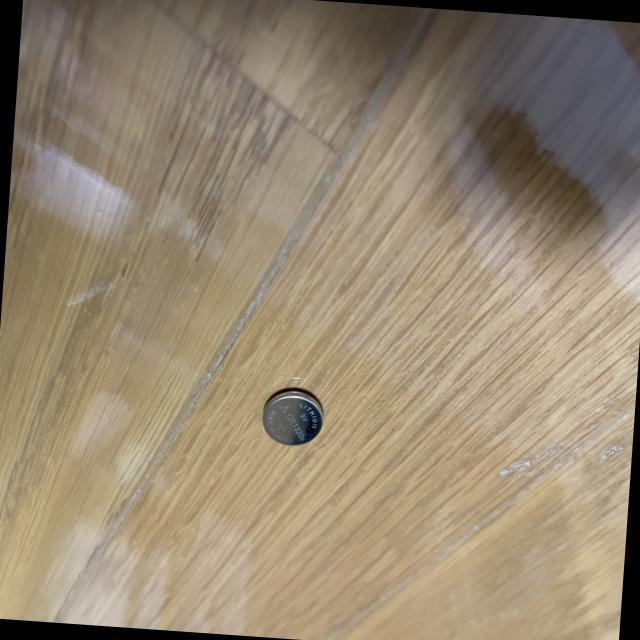COIN: (258, 386, 324, 446)
